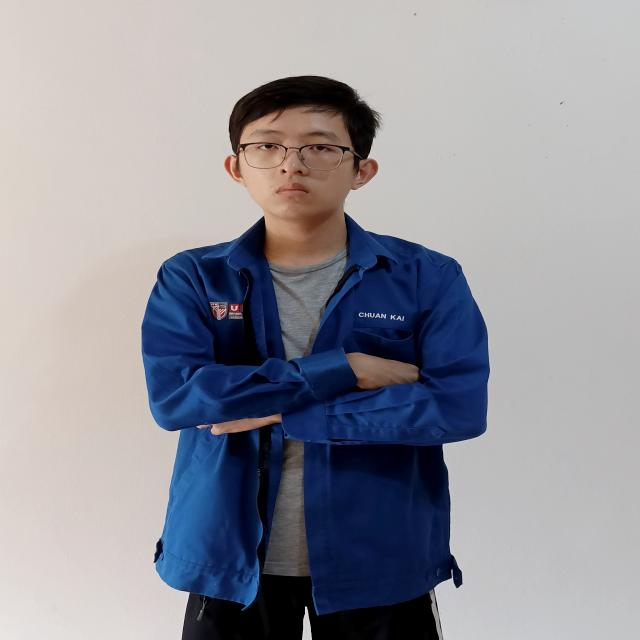person_with_labcoat: (142, 77, 489, 640)
